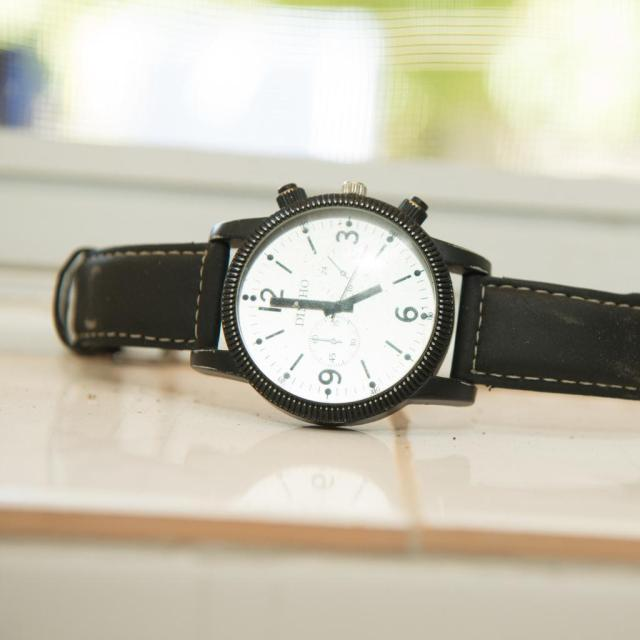Wrist watch: (55, 183, 637, 429)
